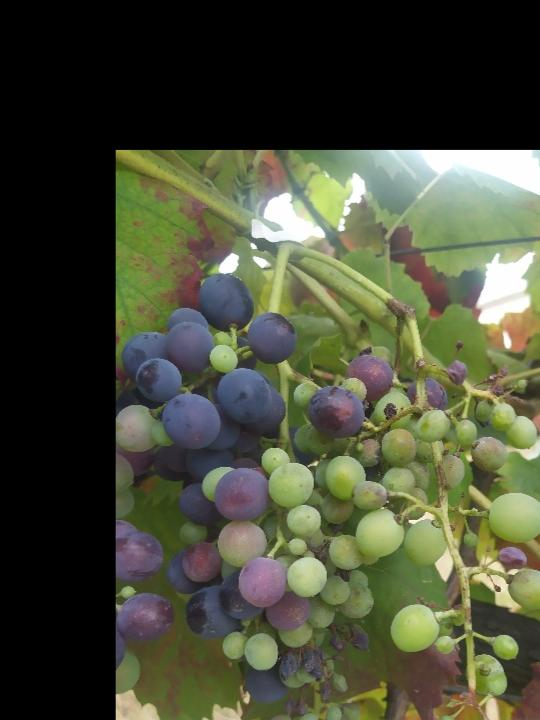grape: (123, 270, 373, 720), (305, 338, 540, 720)
